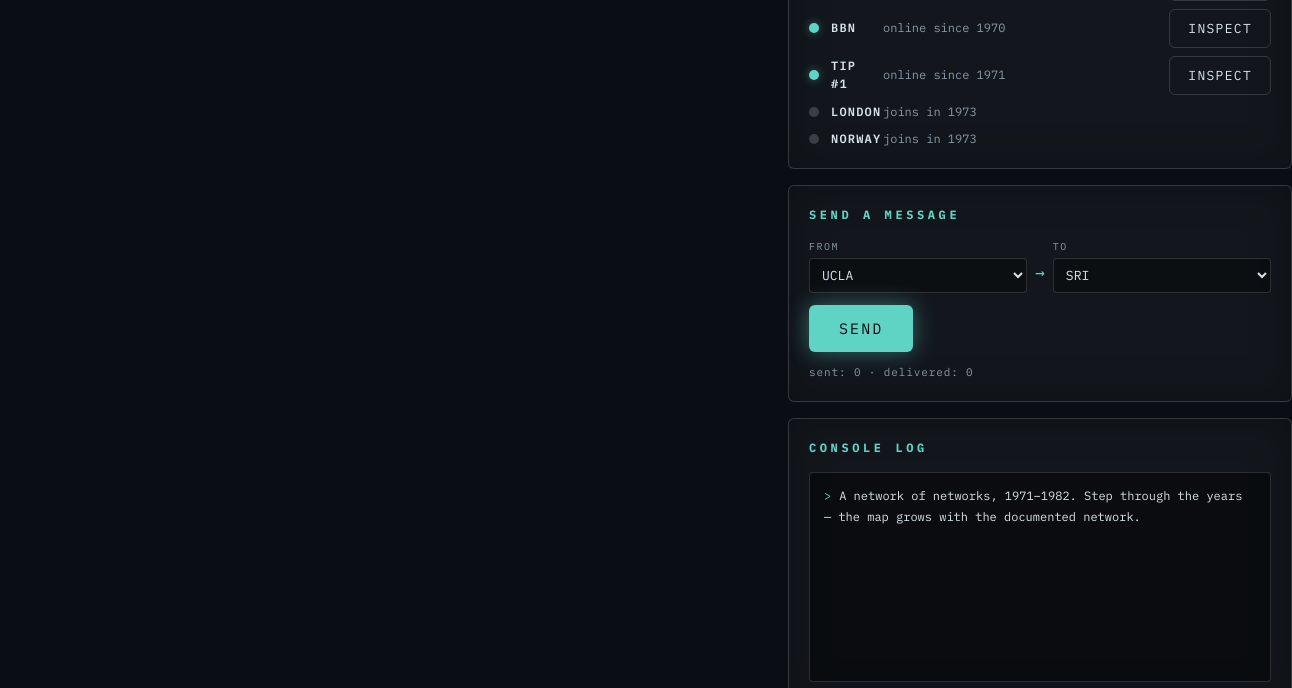
Test: Expansion70sScene › sends a message and records it in the console log
(page scrolled)
Click the button "SEND".
click(861, 329)  # box [809,305,913,352]
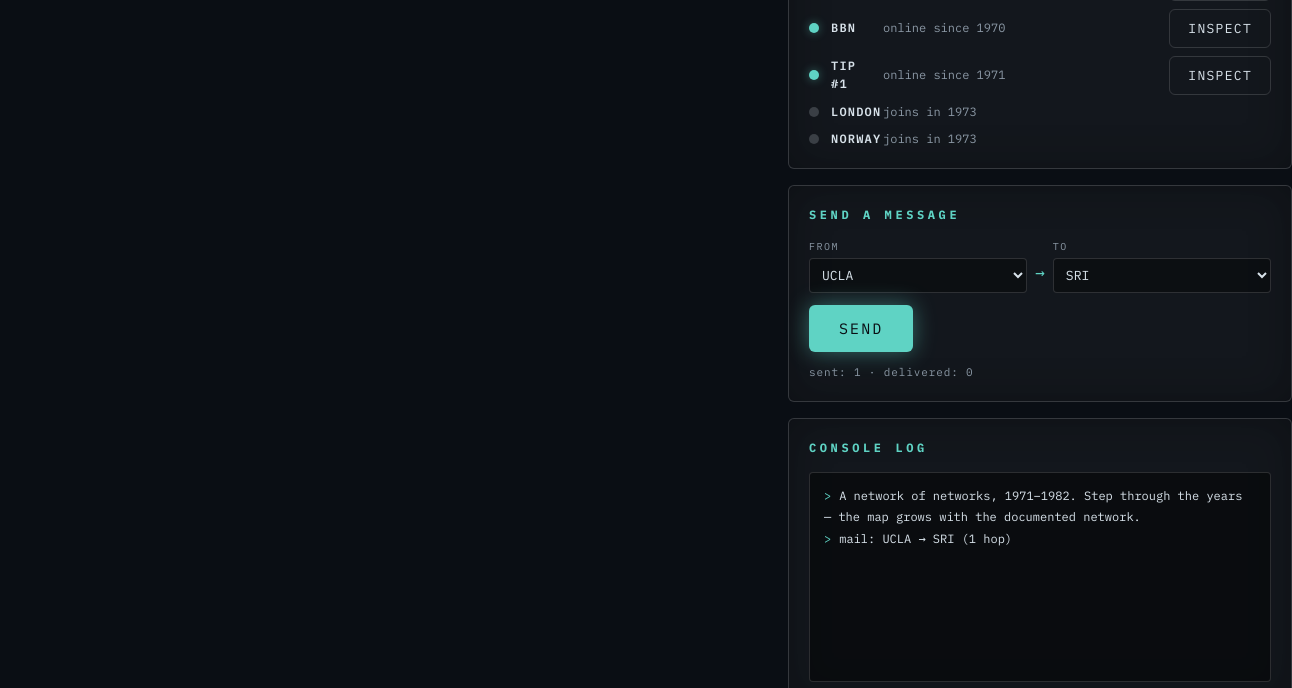
Result: the text ">mail: UCLA → SRI (1 hop)" is shown at [824,531,1012,546]
Result: the text "sent: 1 · delivered: 0" is shown at [809,365,974,379]
